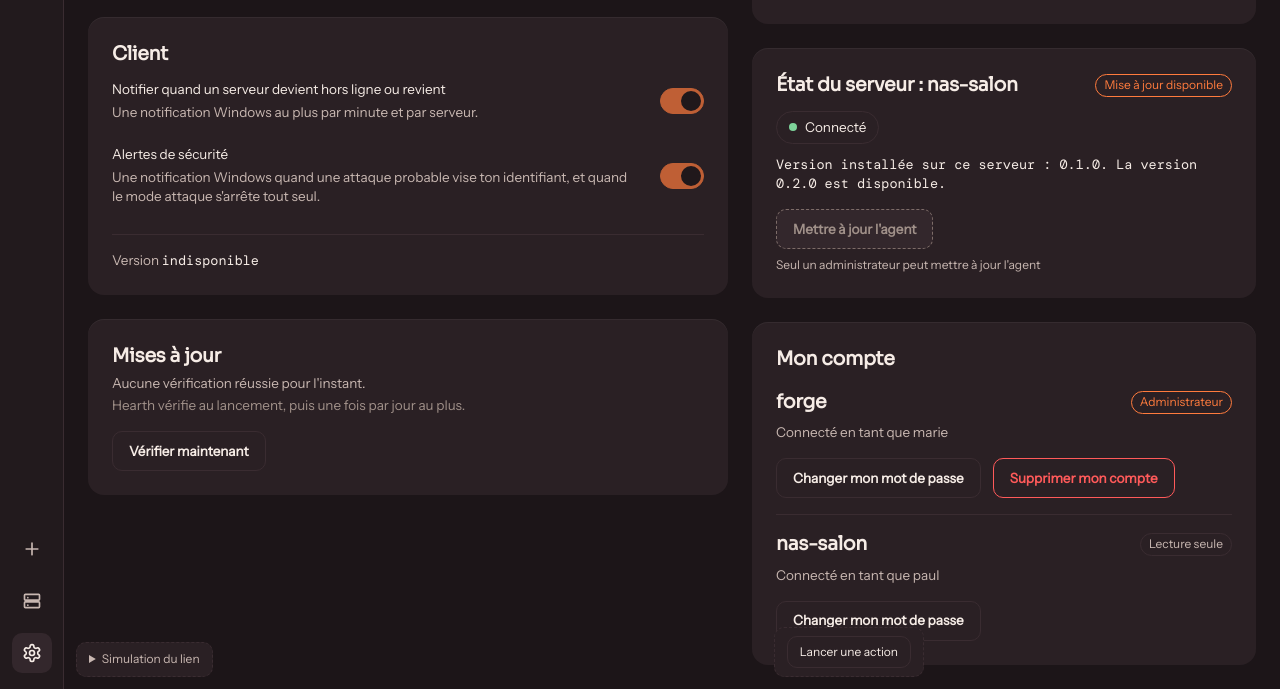
Case « Garder ce poste reconnu » › is disabled, with its reason, when the agent is too old to know it
The width and height of the screenshot is (1280, 689).
(page scrolled)
Click the button "Changer mon mot de passe" below "Connecté en tant que marie" at (878, 478), box top-left (776, 458), bottom-right (981, 498)
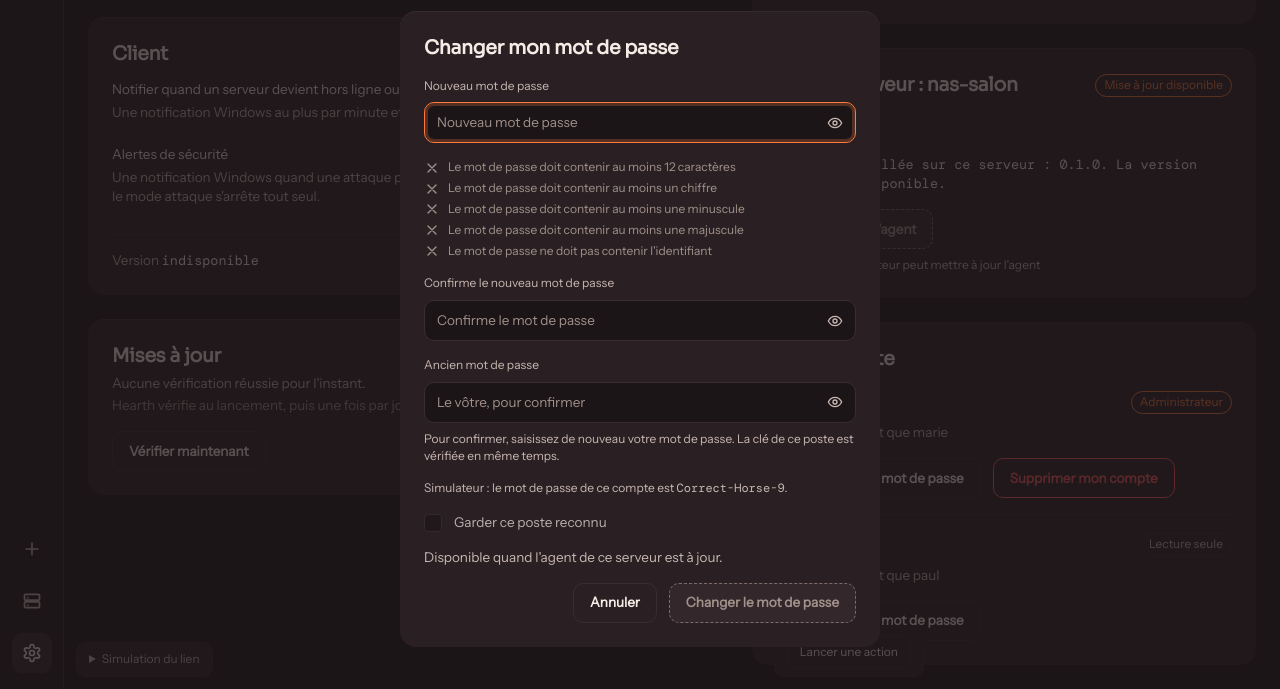
Result: the text "Disponible quand l'agent de ce serveur est à jour." is shown at top-left (424, 549), bottom-right (723, 565)
